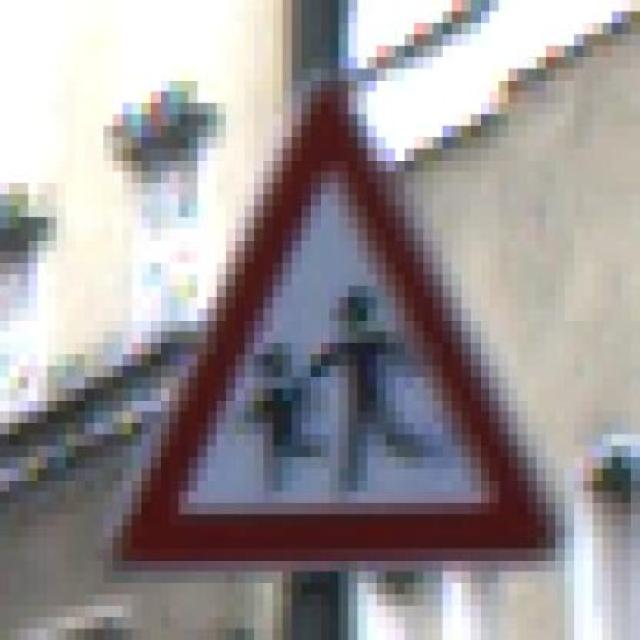Beware of children: (93, 69, 564, 572)
